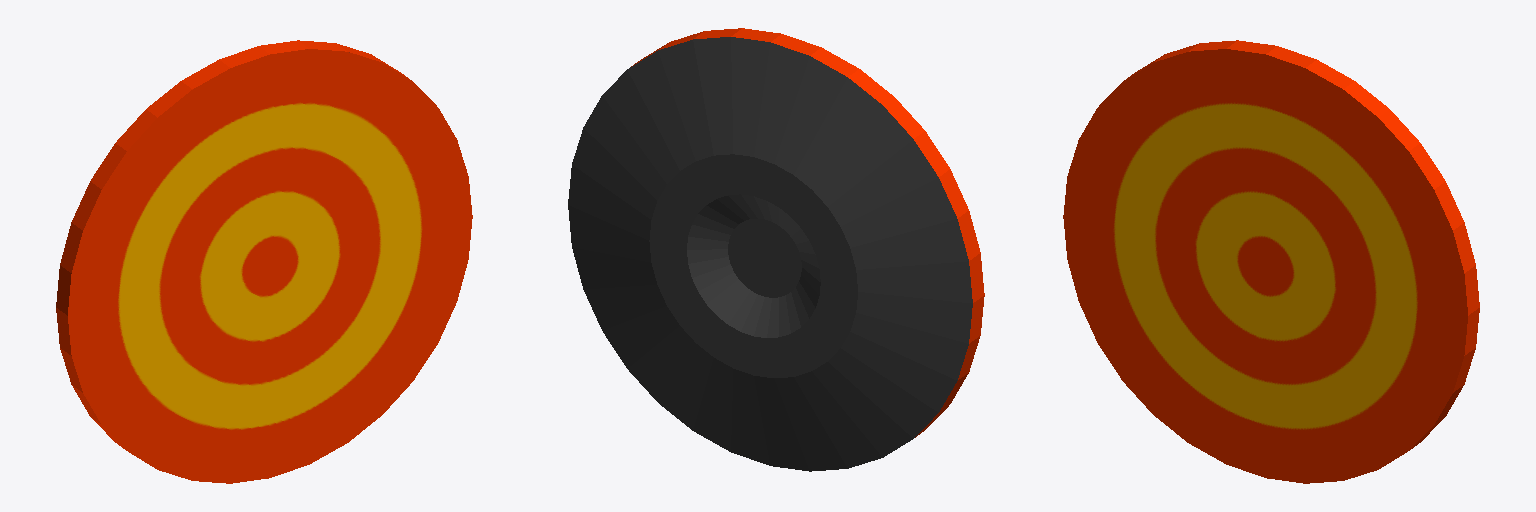
3 renders of one model, left to right at view 1: azimuth 30°, elevation 25°; view 2: azimuth 150°, elevation 25°; view 3: azimuth 330°, elevation 25°, orthographic.
Visible parts, largest first — view 1: Cylinder; view 2: Cylinder; view 3: Cylinder.
Boxes of the visible parts, x1=… form: Cylinder: x1=56, y1=40, x2=472, y2=483; Cylinder: x1=568, y1=28, x2=984, y2=471; Cylinder: x1=1063, y1=40, x2=1479, y2=483.
Bounding box in the file's own units: 2 × 2 × 0.2423.
2 materials, 1 textured.